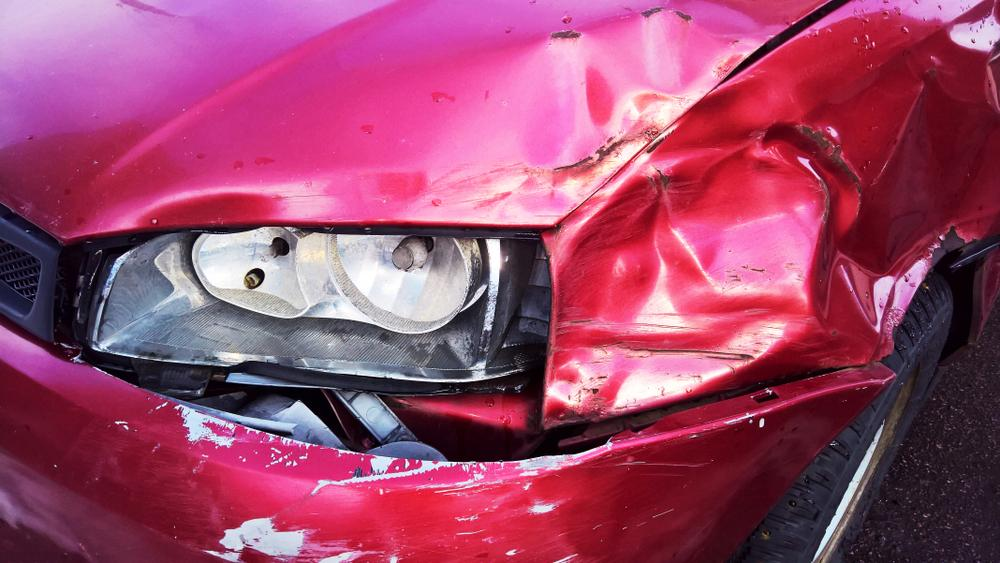dent: (542, 33, 1000, 408), (139, 10, 757, 228)
lamp broken: (85, 222, 558, 387)
scratch: (172, 404, 608, 563)
